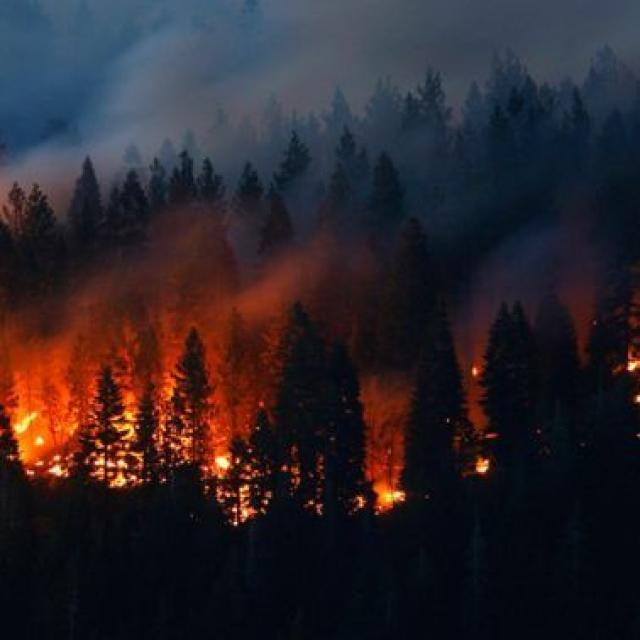Fire: (20, 373, 246, 512)
Smoke: (30, 117, 465, 460)
